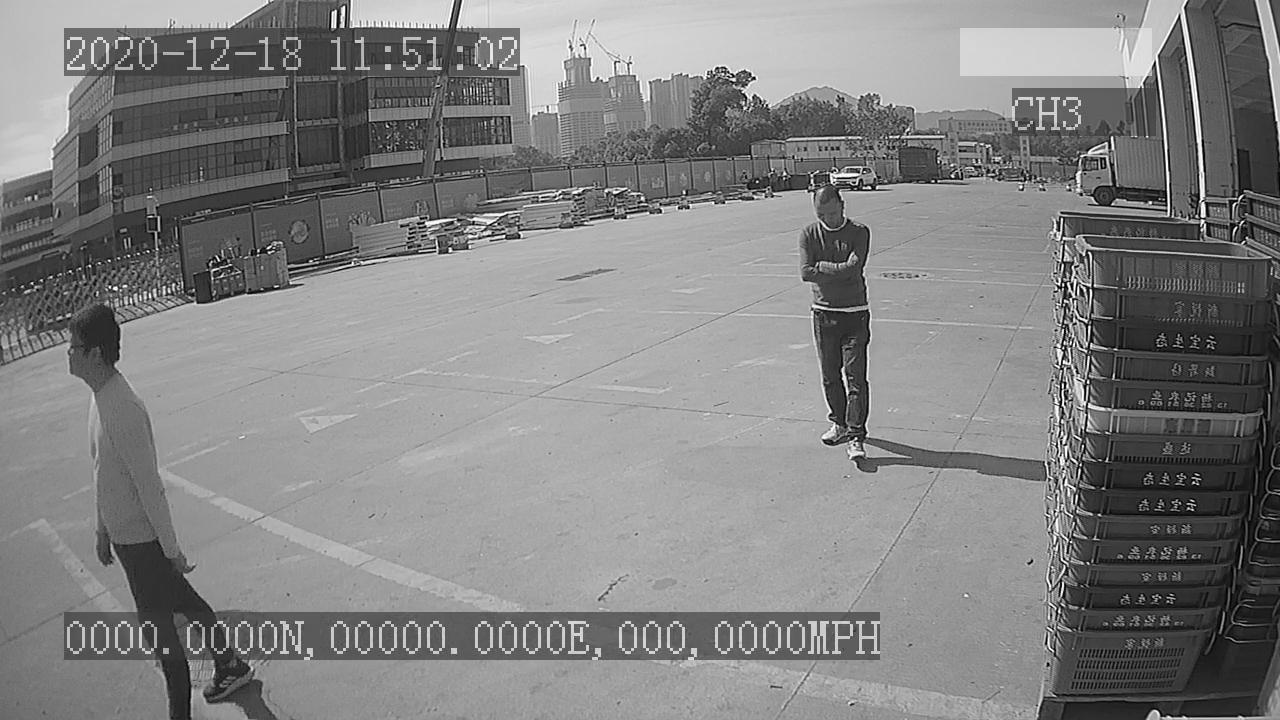person: (793, 181, 877, 470)
